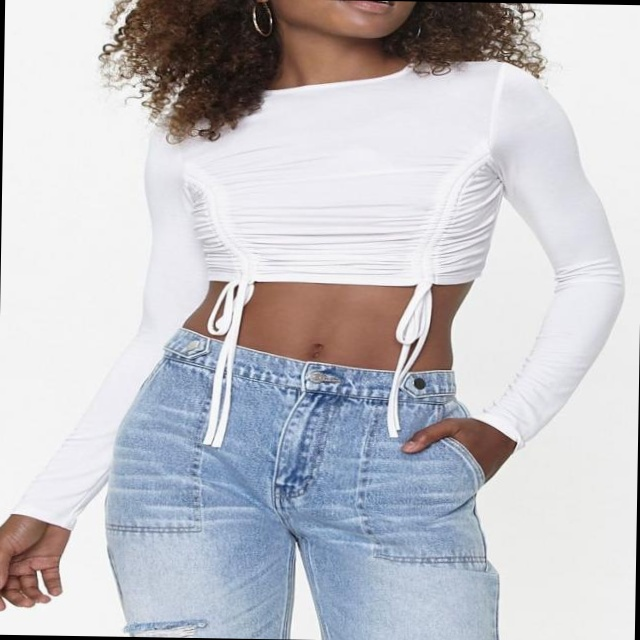Crop_Top: (173, 91, 503, 374)
